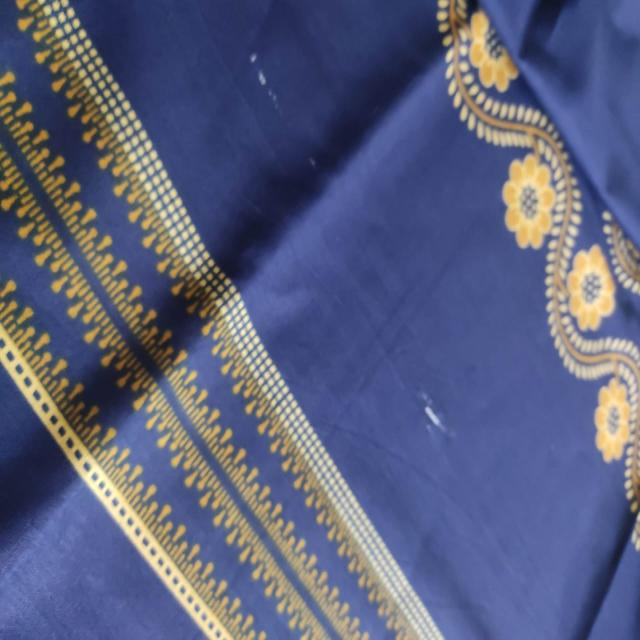selvet: (407, 359, 464, 443)
